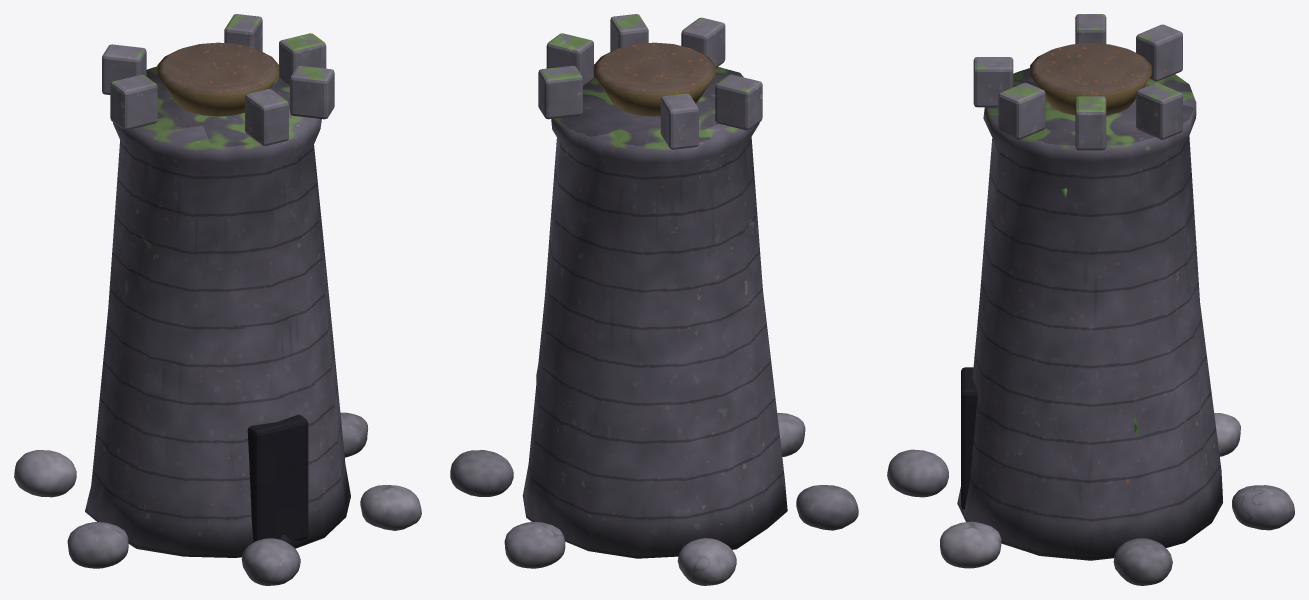
Rendered from lighthouse_ruin.glb.
3 views of the same model, side by side, from view 1: azimuth 30°, elevation 25°; view 2: azimuth 150°, elevation 25°; view 3: azimuth 270°, elevation 25° (orthographic).
Visible parts, largest first — view 1: Lighthouse, Bowl; view 2: Lighthouse, Bowl; view 3: Lighthouse, Bowl.
Part boxes in pixels (x1,y1,x2,y2): Lighthouse: [14, 14, 421, 585]; Bowl: [157, 42, 279, 116]; Lighthouse: [450, 14, 858, 585]; Bowl: [593, 42, 715, 116]; Lighthouse: [887, 14, 1294, 585]; Bowl: [1030, 43, 1151, 115].
Size of the model in its own units: 4.55 by 5.59 by 4.61.
Materials: 1 (1 with a texture image).
